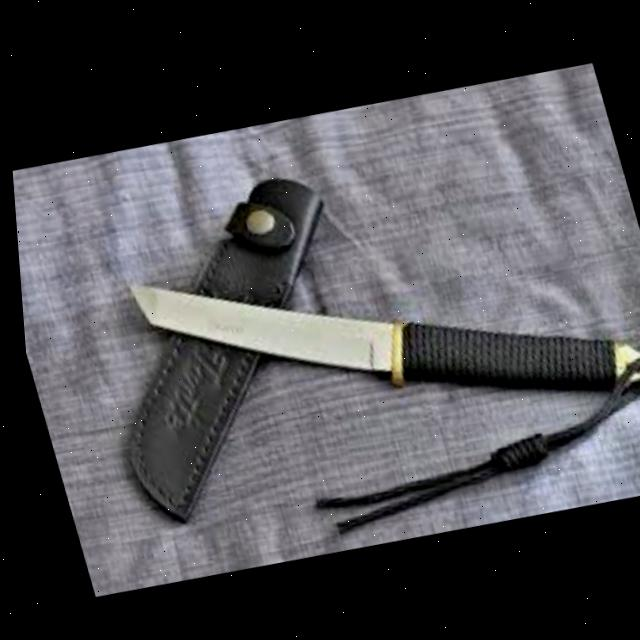Knife: (113, 177, 640, 484)
